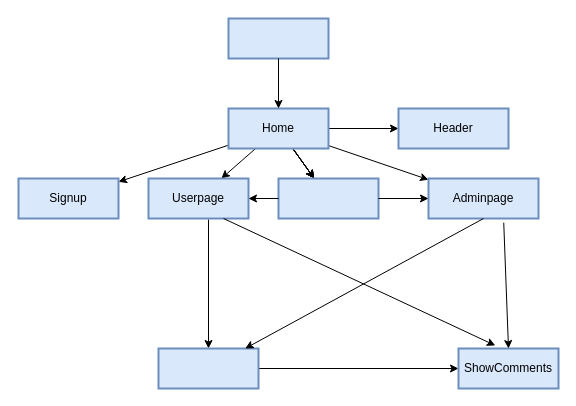
Some shapes in this 576 by 406 pixel diagram are drawn without their labels. The box of each missing label's shape, as (x1, y1, x2, y2) in pixels:
Allpage: (157, 347, 259, 389)
App: (227, 17, 329, 59)
Login: (277, 177, 379, 219)
